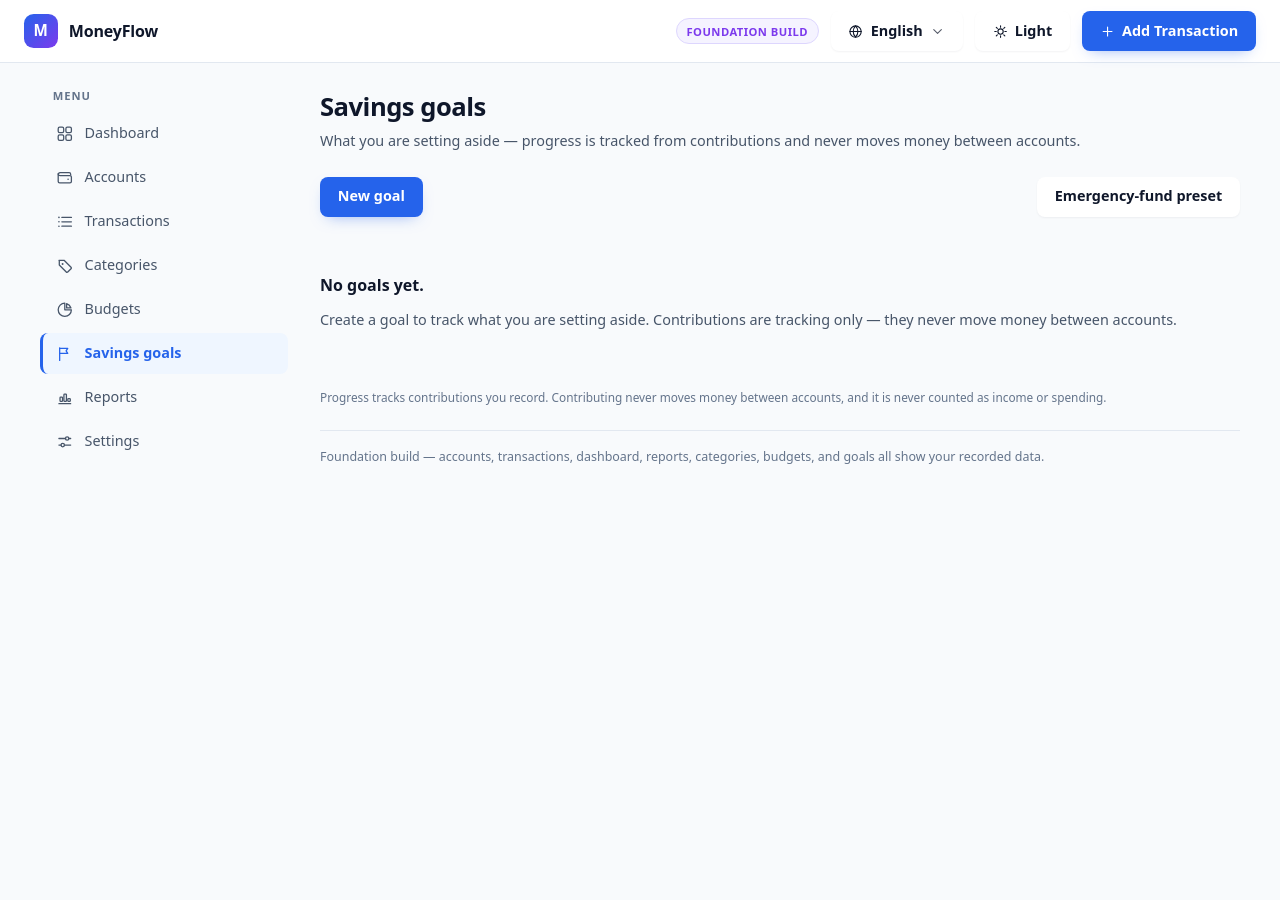
it: goals route (wired to the IT-10 goal endpoints) › validates the create form locally and posts canonical decimal values
Click the button "New goal". click: (371, 196)
box: [320,176,423,216]
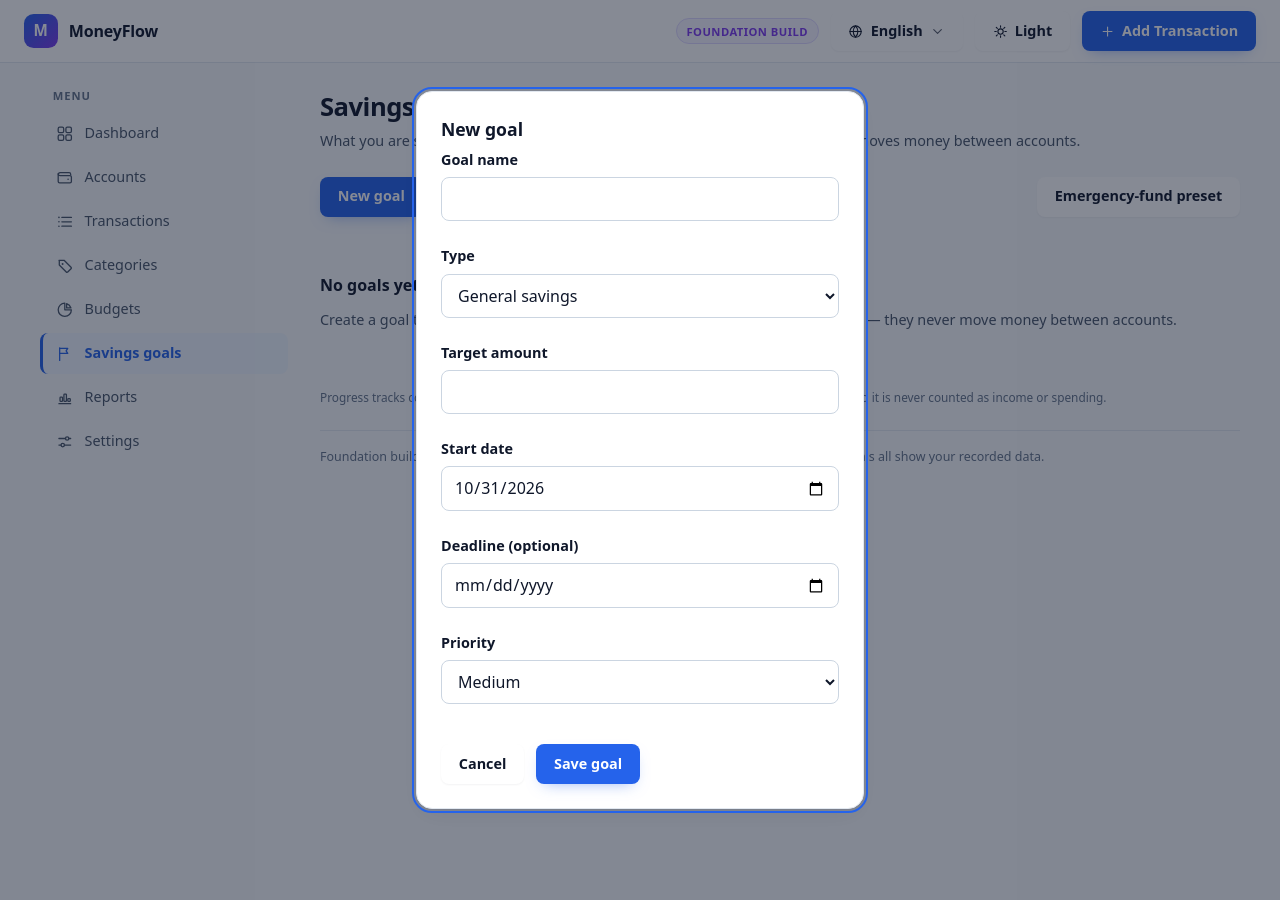
Click the button "Save goal". click: (588, 764)
box: [536,744,640,784]
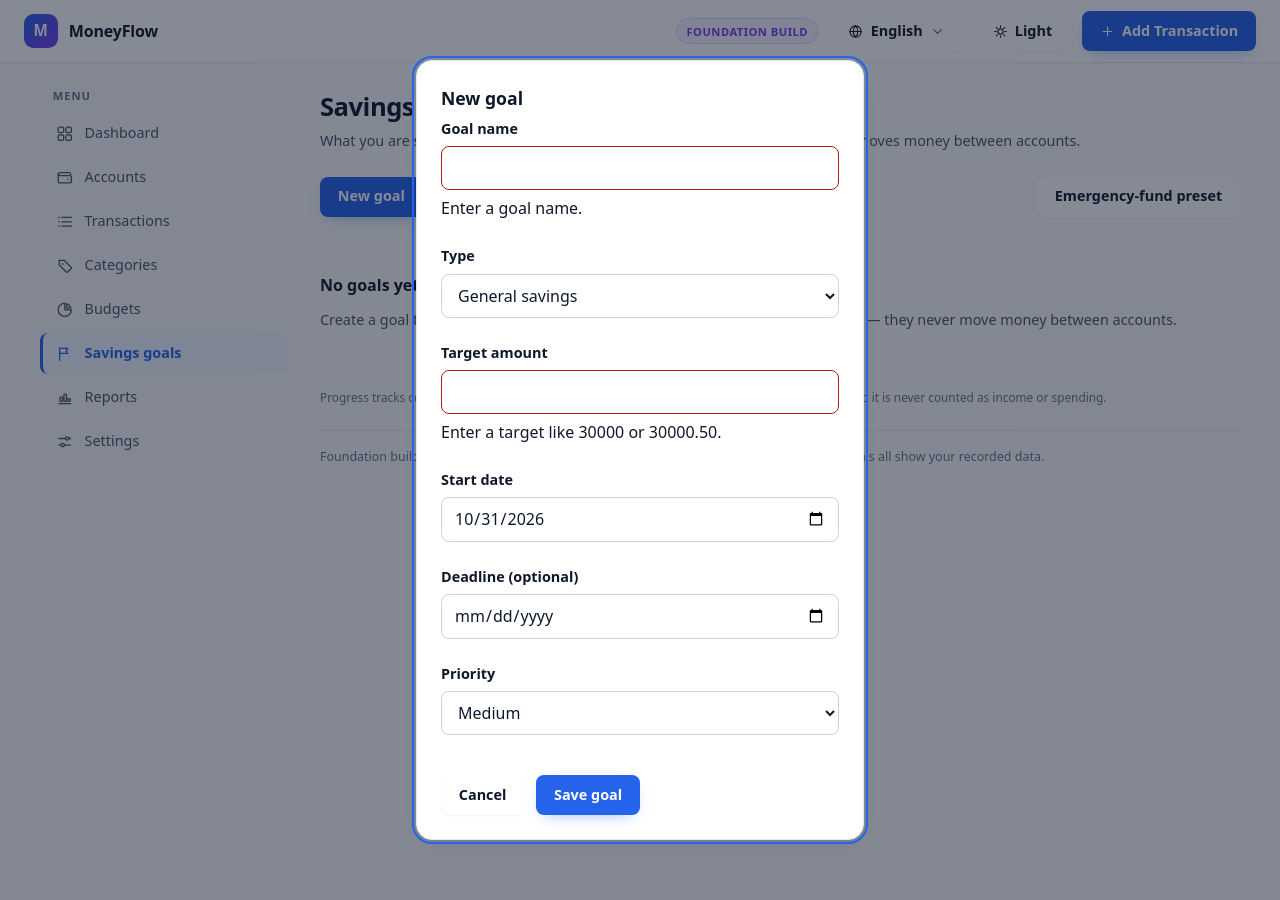
Result: the text "Enter a goal name." is shown at [441,197,582,219]
Result: the text "Enter a target like 30000 or 30000.50." is shown at [441,421,722,443]
Labels also hold their inline error text, so match on the leading name.
Type " New laptop " into the field labelled "Goal name Enter a goal name.". click: (640, 168)
box: [441,146,839,190]
Type "48000.50" into the field labelled "Target amount Enter a target like 30000 or 30000.50.". click: (640, 392)
box: [441,370,839,414]
Type "2026-09-01" into the date field labelled "Deadline (optional)". click: (640, 616)
box: [441,594,839,639]
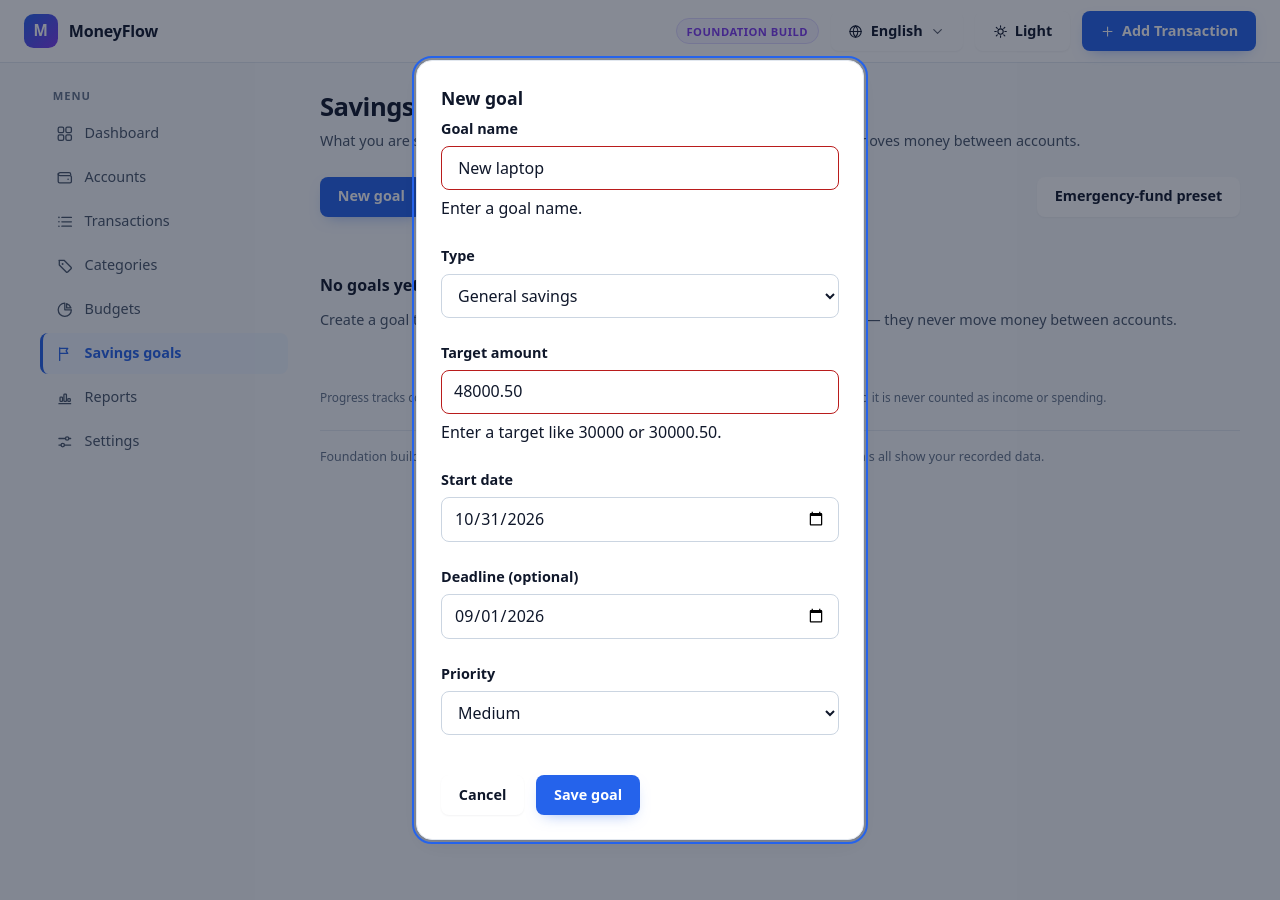
Click the button "Save goal". click: (588, 795)
box: [536,775,640,815]
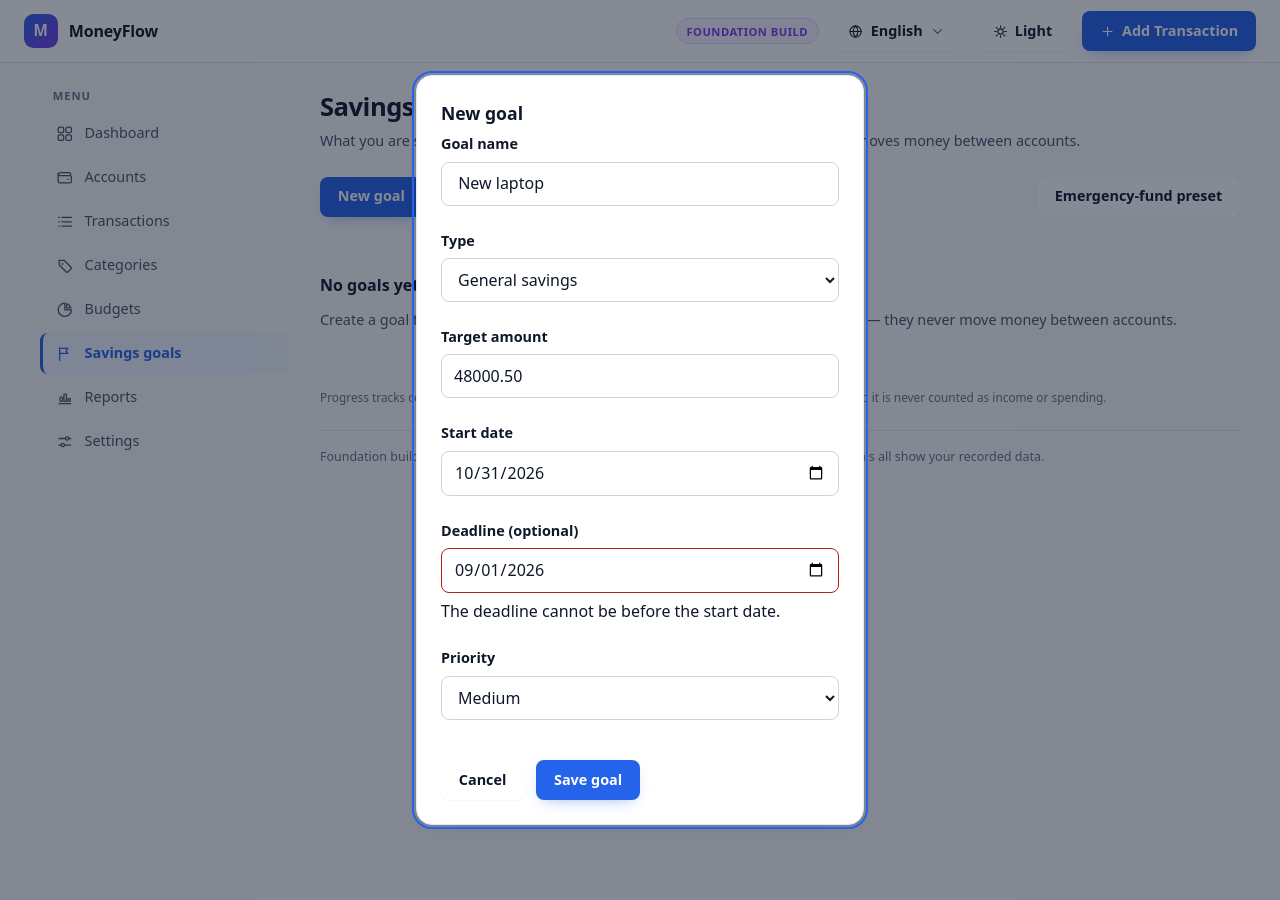
Result: the text "The deadline cannot be before the start date." is shown at [441,599,839,624]
Clear the date field labelled "Deadline". click: (640, 570)
box: [441,548,839,593]
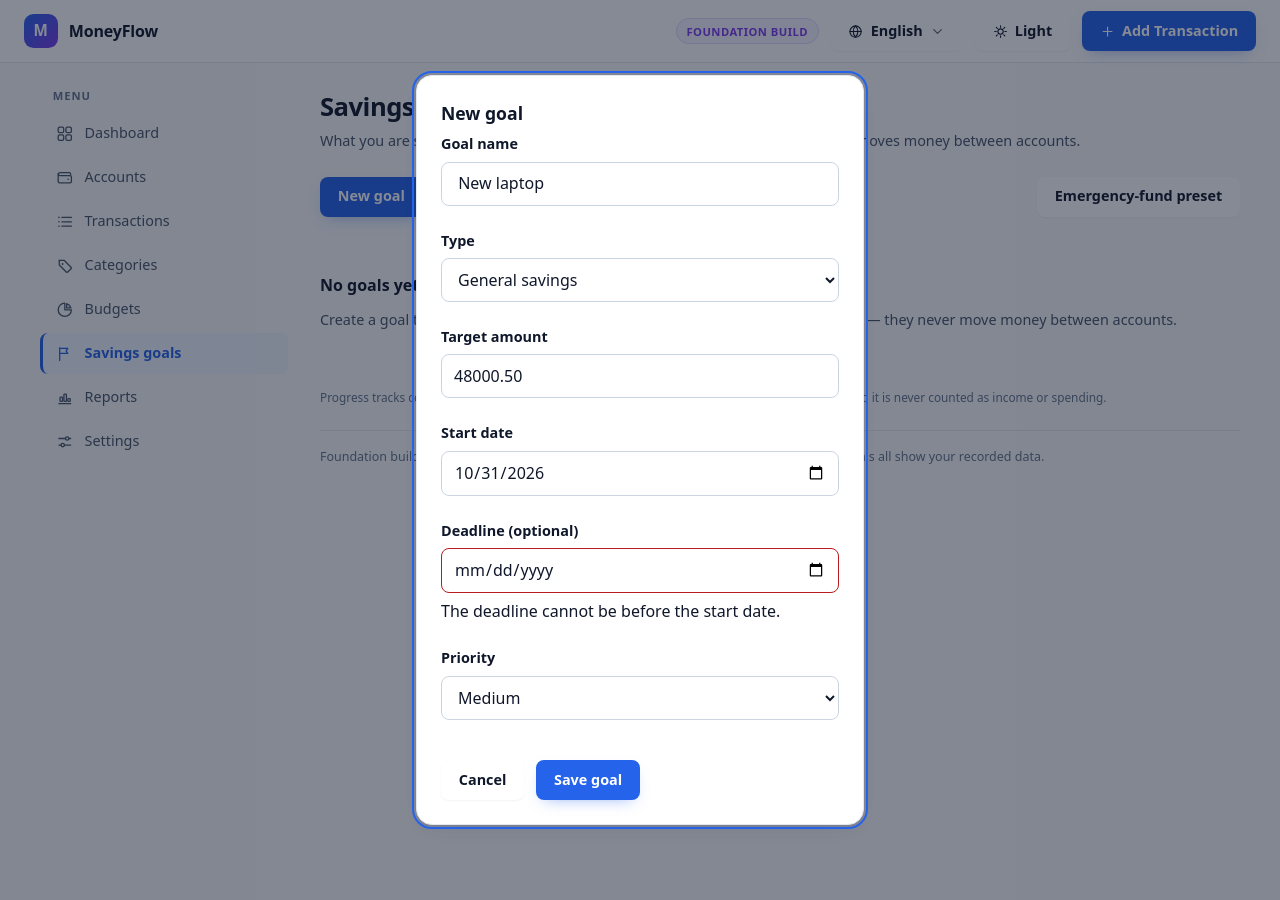
Click the button "Save goal". click: (588, 780)
box: [536,760,640,800]
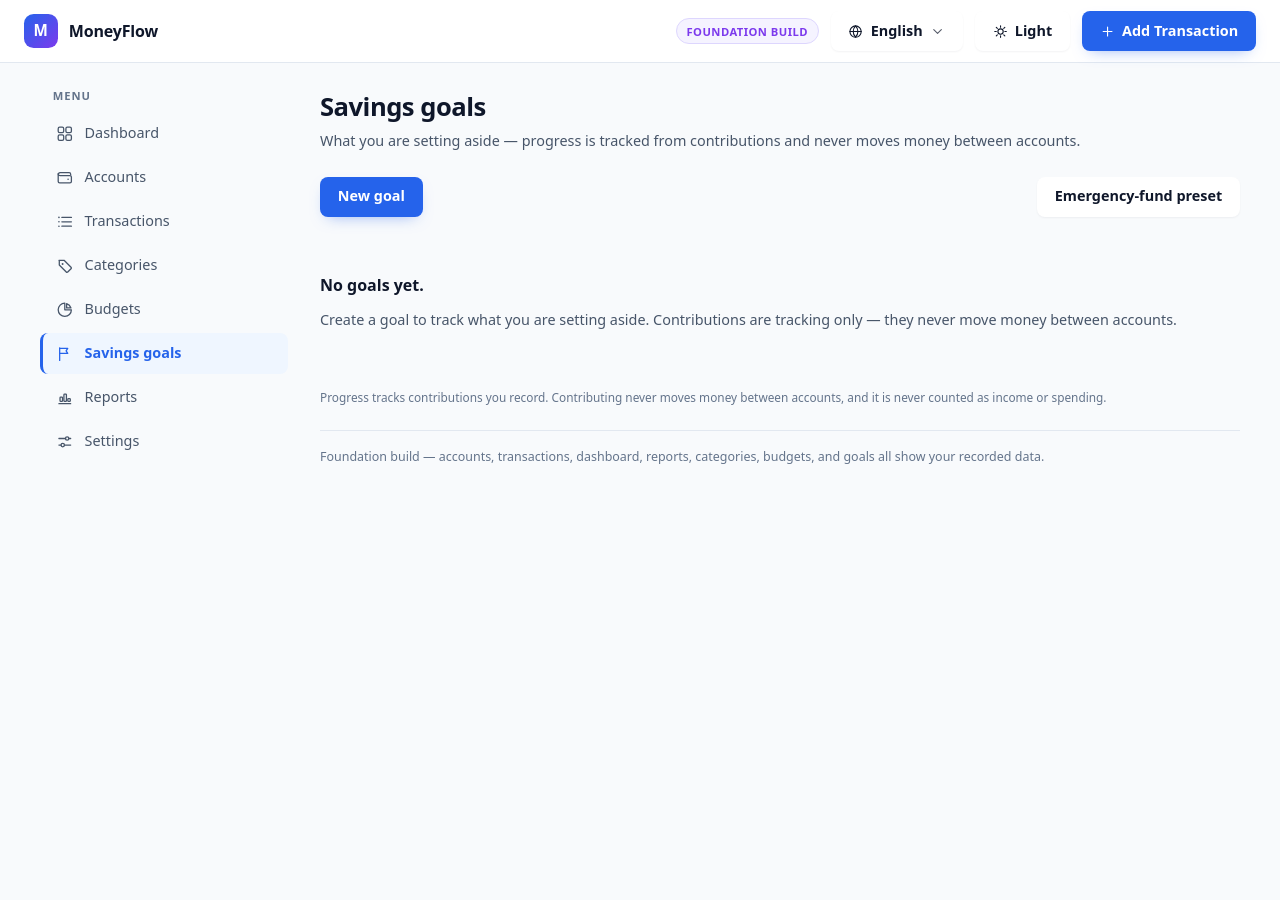
Result: the button "Save goal" is gone
